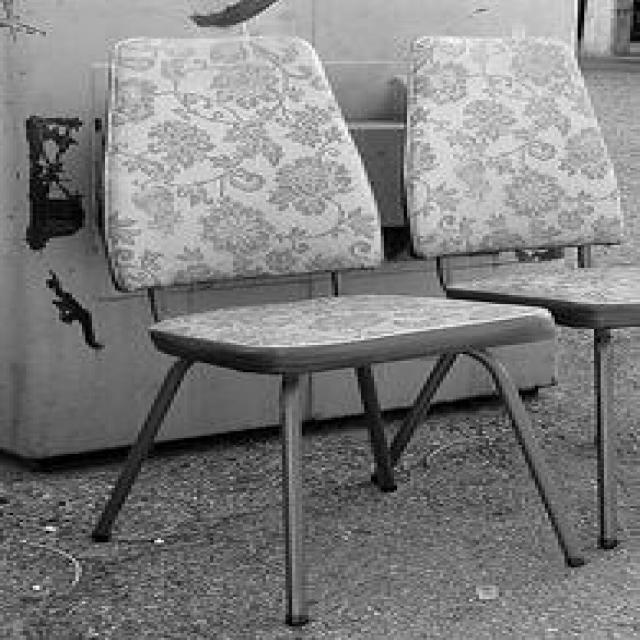chair: (106, 29, 584, 631), (386, 35, 639, 549)
